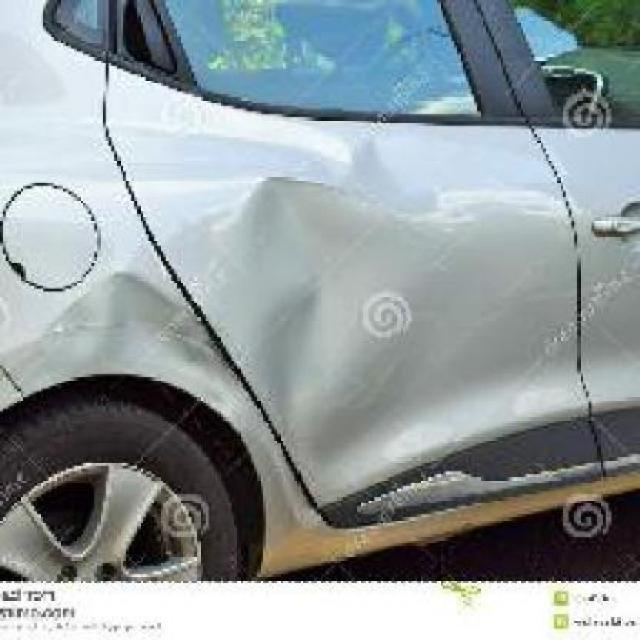damaged-door: (94, 0, 600, 506)
